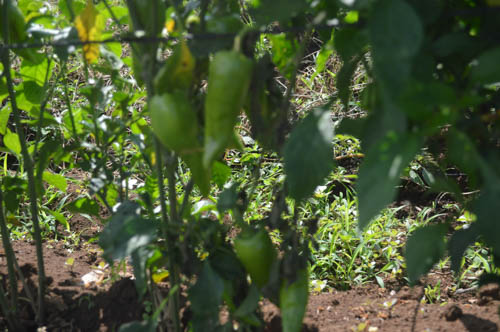ChiliPepper: (149, 94, 209, 196), (202, 53, 252, 172), (238, 232, 271, 283), (280, 281, 307, 328)
